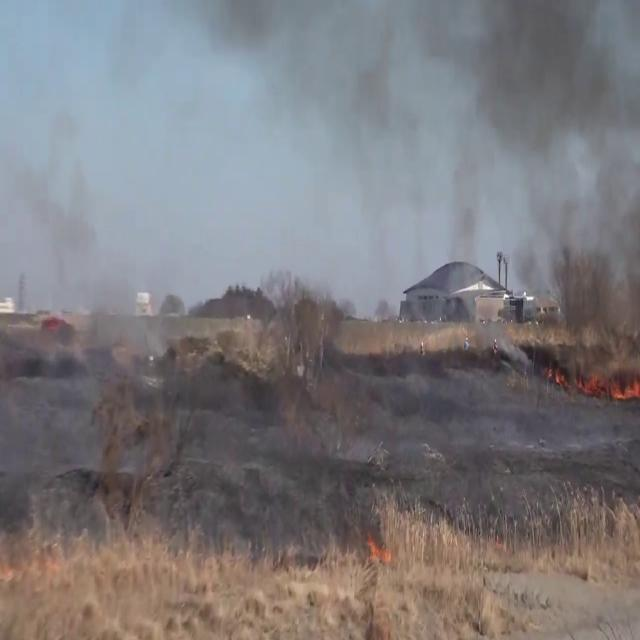Fire: (555, 362, 640, 407)
Smoke: (327, 0, 640, 355), (0, 0, 188, 366), (532, 1, 640, 367)
